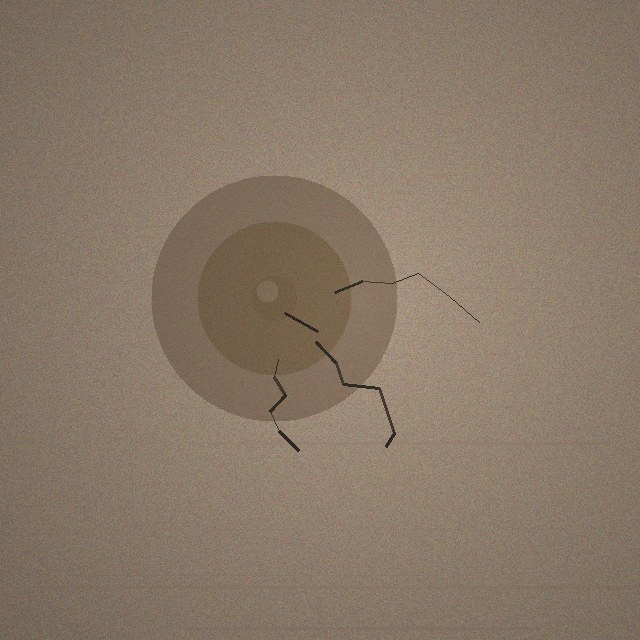crack: (151, 175, 397, 421)
